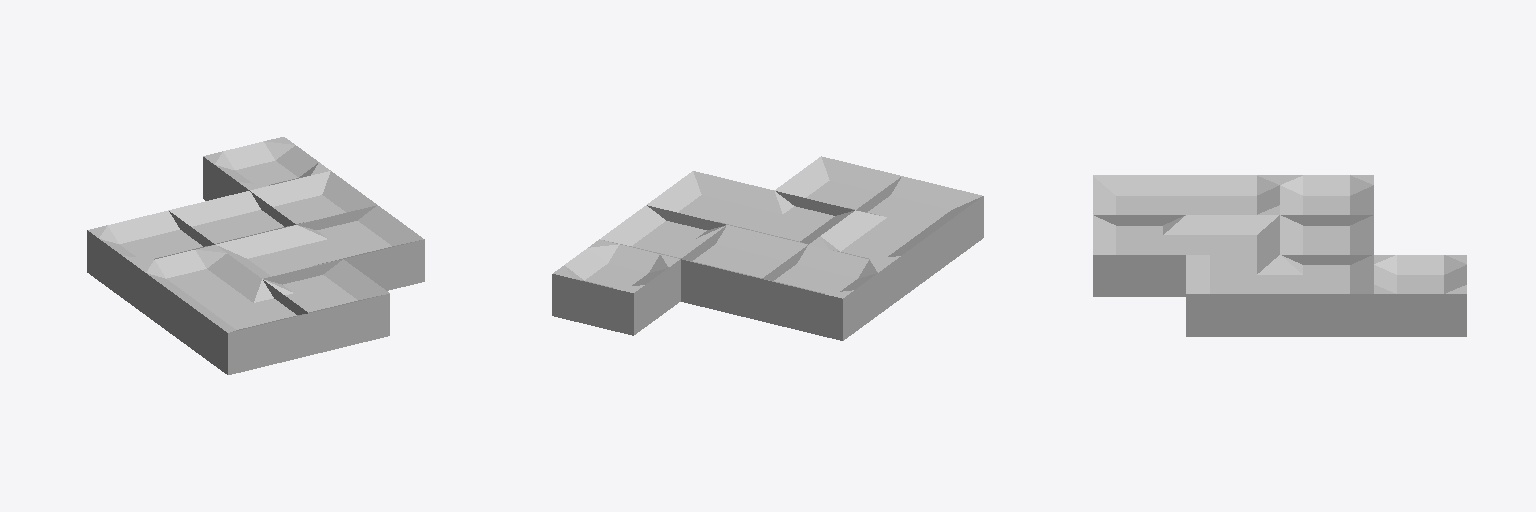
File: 85s_path.obj
3 renders of one model, left to right at view 1: azimuth 30°, elevation 25°; view 2: azimuth 150°, elevation 25°; view 3: azimuth 270°, elevation 25°, orthographic.
Parts seen in each view (by area): view 1: corner.2.0_corner.1591, corner.3.0_corner.1592, corner.4.1_corner.1594, ending.2.1_ending.637, ending.2.2_ending.638, hole.4.3_Cube.320, through.3.2_through.319, corner.4.2_corner.1595, corner.3.1_corner.1593; view 2: hole.4.3_Cube.320, ending.2.2_ending.638, through.3.2_through.319, corner.2.0_corner.1591, ending.2.1_ending.637, corner.4.1_corner.1594, corner.3.0_corner.1592, corner.4.2_corner.1595, corner.3.1_corner.1593; view 3: hole.4.3_Cube.320, corner.4.2_corner.1595, corner.4.1_corner.1594, corner.3.0_corner.1592, corner.2.0_corner.1591, corner.3.1_corner.1593, through.3.2_through.319, ending.2.1_ending.637, ending.2.2_ending.638.
Part boxes in pixels (bbox=[...]): corner.2.0_corner.1591: bbox=[181, 279, 308, 374]; corner.3.0_corner.1592: bbox=[263, 259, 389, 355]; corner.4.1_corner.1594: bbox=[297, 205, 424, 290]; ending.2.1_ending.637: bbox=[134, 245, 261, 340]; ending.2.2_ending.638: bbox=[87, 210, 211, 305]; hole.4.3_Cube.320: bbox=[203, 137, 330, 200]; through.3.2_through.319: bbox=[169, 191, 293, 246]; corner.4.2_corner.1595: bbox=[250, 171, 376, 226]; corner.3.1_corner.1593: bbox=[216, 225, 338, 283]; hole.4.3_Cube.320: bbox=[552, 239, 680, 335]; ending.2.2_ending.638: bbox=[762, 245, 889, 340]; through.3.2_through.319: bbox=[681, 225, 807, 320]; corner.2.0_corner.1591: bbox=[856, 176, 983, 271]; ending.2.1_ending.637: bbox=[809, 210, 936, 305]; corner.4.1_corner.1594: bbox=[647, 171, 773, 229]; corner.3.0_corner.1592: bbox=[774, 156, 901, 215]; corner.4.2_corner.1595: bbox=[600, 205, 726, 258]; corner.3.1_corner.1593: bbox=[730, 191, 853, 244]; hole.4.3_Cube.320: bbox=[1374, 255, 1466, 336]; corner.4.2_corner.1595: bbox=[1280, 255, 1373, 336]; corner.4.1_corner.1594: bbox=[1186, 255, 1279, 336]; corner.3.0_corner.1592: bbox=[1093, 215, 1185, 296]; corner.2.0_corner.1591: bbox=[1093, 175, 1185, 225]; corner.3.1_corner.1593: bbox=[1186, 215, 1279, 264]; through.3.2_through.319: bbox=[1280, 215, 1373, 264]; ending.2.1_ending.637: bbox=[1186, 175, 1279, 214]; ending.2.2_ending.638: bbox=[1280, 175, 1373, 214].
Bounding box in the file's own units: 6 × 1 × 8.